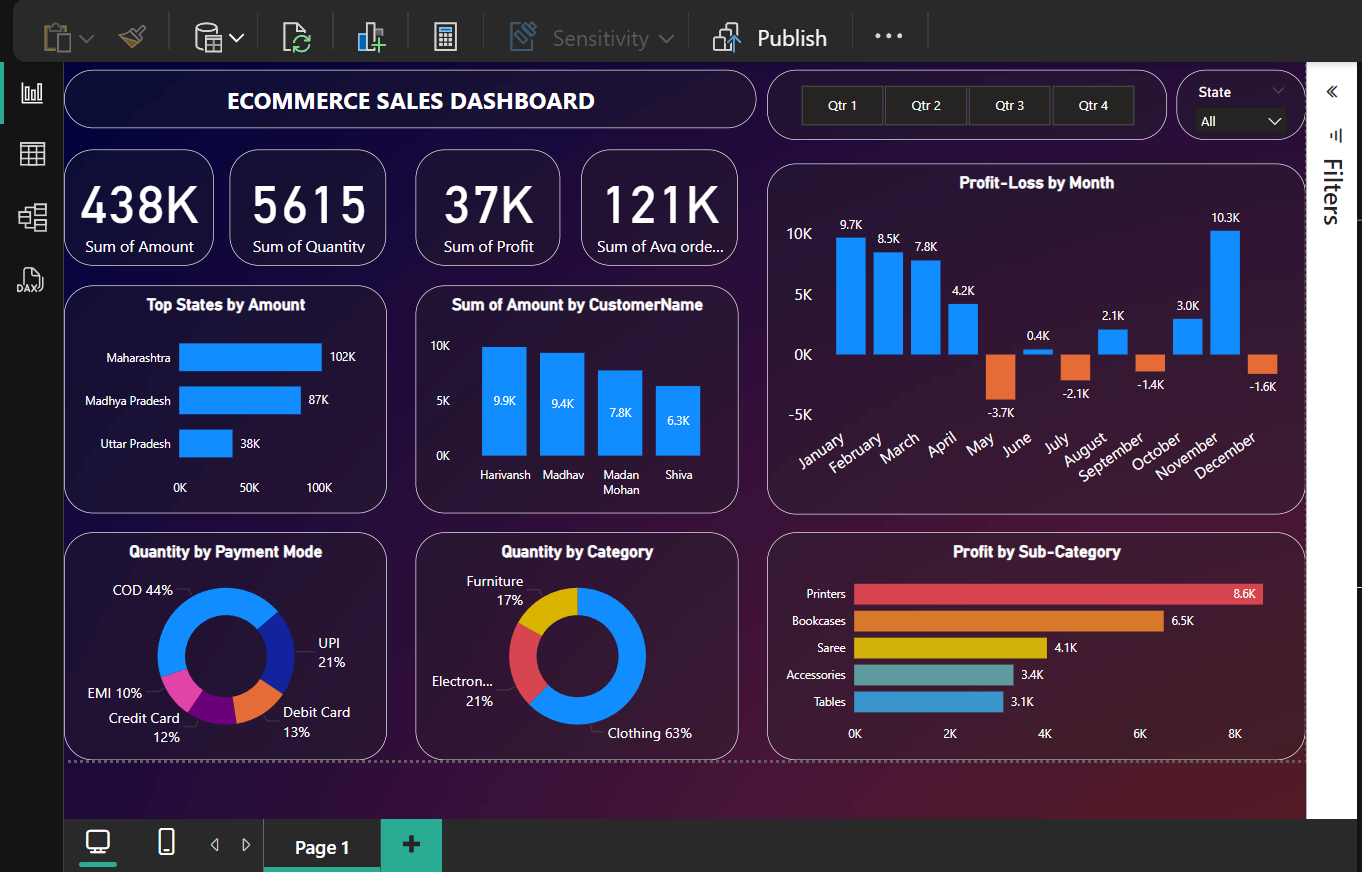

The page's visual inventory and layout, read from the dashboard file:
{"tool":"powerbi","page":{"name":"Page 1","canvas":[1280,720],"ordinal":0},"visuals":[{"type":"textbox","box":[0,8.6,713.9,59.9],"z":0},{"type":"columnChart","title":"Profit-Loss by Month","fields":{"Category":["Orders - Copy.Order Date.Variation.Date Hierarchy.Month"],"Y":["Details.Profit"]},"box":[724.9,103.9,555,361.8],"z":1},{"type":"barChart","title":"Profit by Sub-Category","fields":{"Category":["Details.Sub-Category"],"Y":["Details.Profit"]},"box":[724.9,485.3,555,234.7],"z":2},{"type":"donutChart","title":"Quantity by Category","fields":{"Category":["Details.Category"],"Y":["Details.Quantity"]},"box":[361.8,485.3,332.5,234.7],"z":3},{"type":"donutChart","title":"Quantity by Payment Mode","fields":{"Y":["Details.Quantity"],"Category":["Details.PaymentMode"]},"box":[0,485.3,332.5,234.7],"z":4},{"type":"barChart","title":"Top States by Amount","fields":{"Category":["Orders - Copy.State"],"Y":["Details.Amount"]},"box":[0,231,332.5,234.7],"z":5},{"type":"card","fields":{"Values":["Details.Amount"]},"box":[0,90.5,154,119.8],"z":6},{"type":"columnChart","fields":{"Category":["Orders - Copy.CustomerName"],"Y":["Details.Amount"]},"box":[361.8,231,332.5,234.7],"z":7},{"type":"card","fields":{"Values":["Details.Profit"]},"box":[361.8,90.5,149.1,119.8],"z":8},{"type":"card","fields":{"Values":["Details.Quantity"]},"box":[171.1,90.5,161.4,119.8],"z":9},{"type":"card","fields":{"Values":["Details.Avg order value"]},"box":[533,90.5,161.4,119.8],"z":10},{"type":"slicer","fields":{"Values":["Orders - Copy.Order Date.Variation.Date Hierarchy.Quarter"]},"box":[724.9,8.6,412,72.1],"z":11},{"type":"slicer","fields":{"Values":["Orders - Copy.State"]},"box":[1146.6,8.6,133.2,72.1],"z":12}]}

Visuals, with their boxes on the page's 1280x720 design canvas (x1, y1, x2, y2). These are canvas units, not pixel positions in the 1362x872 screenshot, which may show the page scaled, cropped or inside an application window:
textbox: [left=0, top=9, right=714, bottom=68]
"Profit-Loss by Month" columnChart: [left=725, top=104, right=1280, bottom=466]
"Profit by Sub-Category" barChart: [left=725, top=485, right=1280, bottom=720]
"Quantity by Category" donutChart: [left=362, top=485, right=694, bottom=720]
"Quantity by Payment Mode" donutChart: [left=0, top=485, right=332, bottom=720]
"Top States by Amount" barChart: [left=0, top=231, right=332, bottom=466]
card - Details.Amount: [left=0, top=90, right=154, bottom=210]
columnChart - Orders - Copy.CustomerName x Details.Amount: [left=362, top=231, right=694, bottom=466]
card - Details.Profit: [left=362, top=90, right=511, bottom=210]
card - Details.Quantity: [left=171, top=90, right=332, bottom=210]
card - Details.Avg order value: [left=533, top=90, right=694, bottom=210]
slicer - Orders - Copy.Order Date.Variation.Date Hierarchy.Quarter: [left=725, top=9, right=1137, bottom=81]
slicer - Orders - Copy.State: [left=1147, top=9, right=1280, bottom=81]
